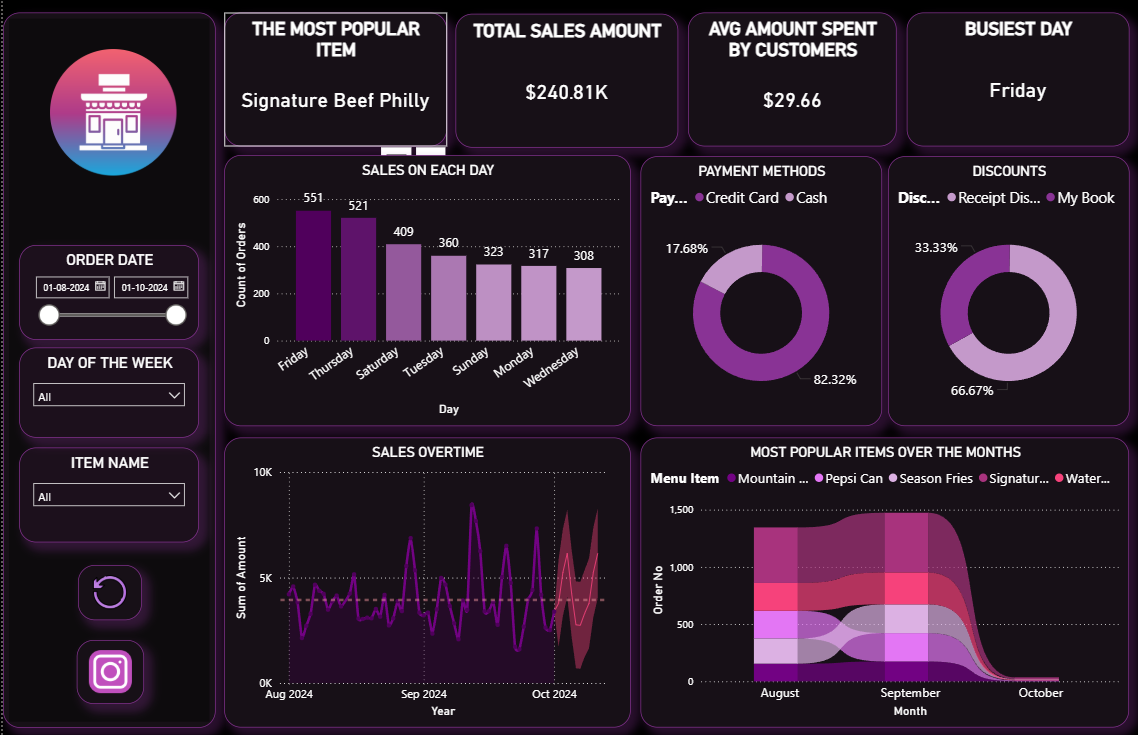

What the dashboard file says about the page in this screenshot:
{"tool":"powerbi","page":{"name":"Page 1","canvas":[1350,875],"ordinal":0},"visuals":[{"type":"shape","box":[0,14.9,252.6,850],"z":0},{"type":"card","title":"THE MOST POPULAR ITEM","fields":{"Values":["Min(Menu Item Sale Details.Menu Item)"]},"box":[263,14.9,264.5,159],"z":1000},{"type":"card","title":"TOTAL SALES AMOUNT","fields":{"Values":["Sum(Menu Item Sale Details.Amount)"]},"box":[538,16.3,264.5,159],"z":2000},{"type":"card","title":"AVG AMOUNT SPENT BY CUSTOMERS","fields":{"Values":["Menu Item Sale Details.Average Order Value"]},"box":[814.4,14.9,248.2,159],"z":3000},{"type":"card","title":"BUSIEST DAY","fields":{"Values":["Min(Payment Details.Day)"]},"box":[1074.4,14.9,264.5,159],"z":4000},{"type":"columnChart","title":"SALES ON EACH DAY","fields":{"Category":["Payment Details.Day"],"Y":["CountNonNull(Payment Details.Order No)"]},"box":[263,184.3,483,322.5],"z":5000},{"type":"donutChart","title":"PAYMENT METHODS","fields":{"Category":["Payment Details.Payment Method"],"Y":["CountNonNull(Payment Details.Receipt No)"]},"box":[757.9,185.8,286.8,321],"z":6000},{"type":"slicer","title":"ORDER DATE","fields":{"Values":["Payment Details.Order Date"]},"box":[19.3,291.3,214,112.9],"z":7000},{"type":"donutChart","title":"DISCOUNTS","fields":{"Category":["Discount Details.Discount Name"],"Y":["CountNonNull(Discount Details.Receipt No)"]},"box":[1052.1,185.8,286.8,321],"z":8000},{"type":"lineChart","title":"SALES OVERTIME","fields":{"Y":["Sum(Payment Details.Amount)"],"Category":["Payment Details.Order Date.Variation.Date Hierarchy.Year","Payment Details.Order Date.Variation.Date Hierarchy.Quarter","Payment Details.Order Date.Variation.Date Hierarchy.Month","Payment Details.Order Date.Variation.Date Hierarchy.Day"]},"box":[263,520.1,483,344.8],"z":9000},{"type":"ribbonChart","title":"MOST POPULAR ITEMS OVER THE MONTHS","fields":{"Y":["CountNonNull(Payment Details.Order No)"],"Series":["Menu Item Sale Details.Menu Item"],"Category":["Payment Details.Order Date.Variation.Date Hierarchy.Month"]},"box":[757.9,520.1,581.1,344.8],"z":10000},{"type":"slicer","title":"ITEM NAME","fields":{"Values":["Menu Item Sale Details.Menu Item"]},"box":[19.3,532,214,112.9],"z":12000},{"type":"slicer","title":"DAY OF THE WEEK","fields":{"Values":["Payment Details.Day"]},"box":[19.3,413.1,214,107],"z":13000},{"type":"image","box":[89.2,671.7,75.8,65.4],"z":14000},{"type":"image","box":[87.7,760.9,80.2,75.8],"z":15000},{"type":"image","box":[43.1,53.5,175.4,160.5],"z":15001}]}

Visuals, with their boxes in screenshot pixels (x1, y1, x2, y2), scaled from the page's 1350x875 canvas onto the 1138x735 screenshot:
shape: (0, 13, 213, 727)
"THE MOST POPULAR ITEM" card: (222, 13, 445, 146)
"TOTAL SALES AMOUNT" card: (454, 14, 676, 147)
"AVG AMOUNT SPENT BY CUSTOMERS" card: (687, 13, 896, 146)
"BUSIEST DAY" card: (906, 13, 1129, 146)
"SALES ON EACH DAY" columnChart: (222, 155, 629, 426)
"PAYMENT METHODS" donutChart: (639, 156, 881, 426)
"ORDER DATE" slicer: (16, 245, 197, 340)
"DISCOUNTS" donutChart: (887, 156, 1129, 426)
"SALES OVERTIME" lineChart: (222, 437, 629, 727)
"MOST POPULAR ITEMS OVER THE MONTHS" ribbonChart: (639, 437, 1129, 727)
"ITEM NAME" slicer: (16, 447, 197, 542)
"DAY OF THE WEEK" slicer: (16, 347, 197, 437)
image: (75, 564, 139, 619)
image: (74, 639, 142, 703)
image: (36, 45, 184, 180)
